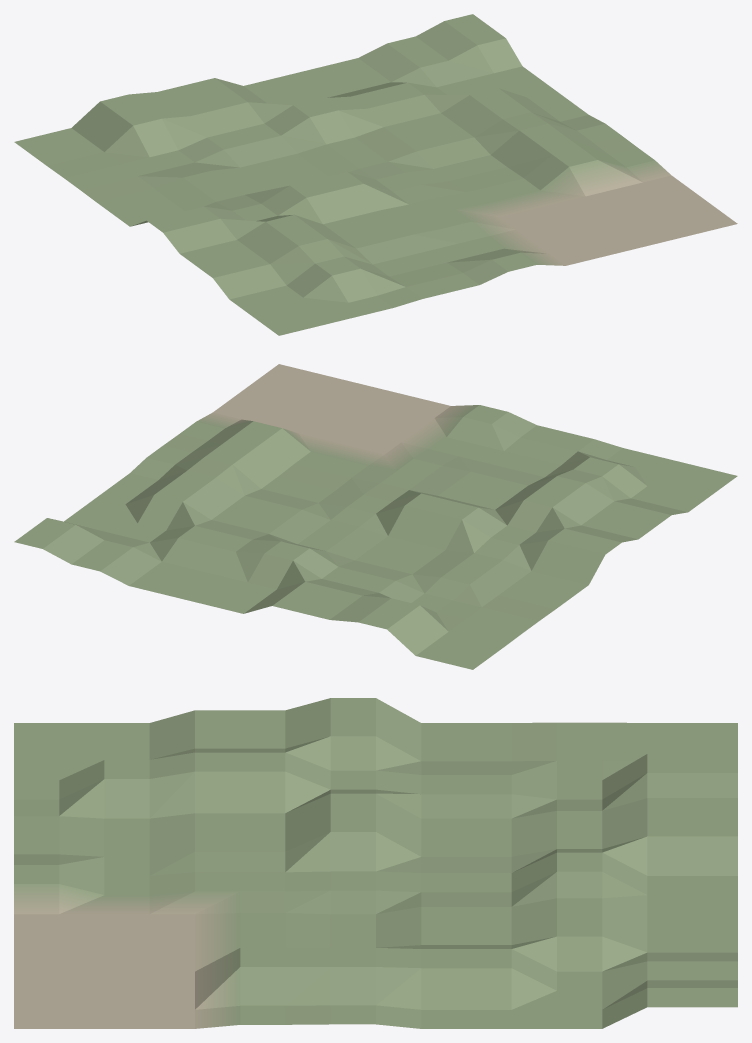
The picture shows the model from 3 angles, top to bottom: view 1: azimuth 30°, elevation 25°; view 2: azimuth 150°, elevation 25°; view 3: azimuth 270°, elevation 25°; orthographic projection. The views are drawn at different scales.
Size of the model in its own units: 32 by 1.36 by 32.
